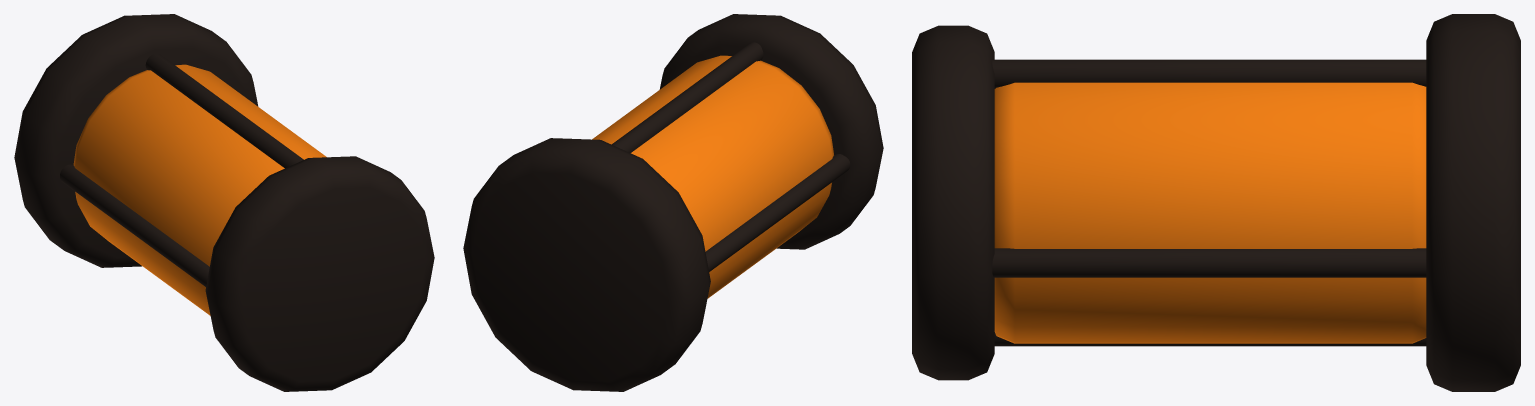
File: SM_LT_Hanging_Lantern.obj
The picture shows the model from 3 angles, left to right: view 1: azimuth 30°, elevation 25°; view 2: azimuth 150°, elevation 25°; view 3: azimuth 270°, elevation 25°; orthographic projection. The views are drawn at different scales.
Parts seen in each view (by area): view 1: SM_LT_Hanging_Lantern; view 2: SM_LT_Hanging_Lantern; view 3: SM_LT_Hanging_Lantern.
Part boxes in pixels (bbox=[...]): SM_LT_Hanging_Lantern: bbox=[14, 14, 434, 391]; SM_LT_Hanging_Lantern: bbox=[463, 14, 883, 391]; SM_LT_Hanging_Lantern: bbox=[912, 14, 1520, 391].
Bounding box in the file's own units: 16 × 16 × 25.75.
